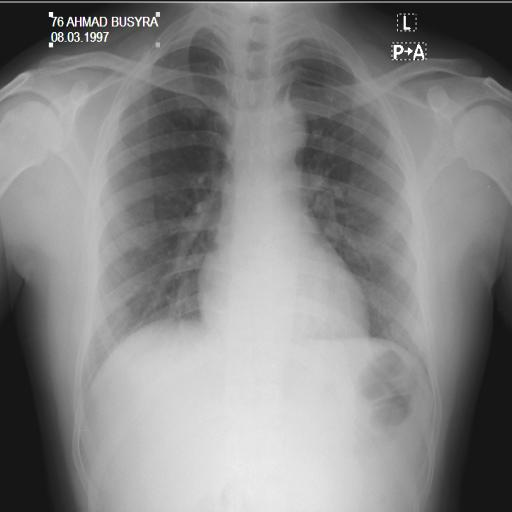normal: (72, 14, 440, 405)
